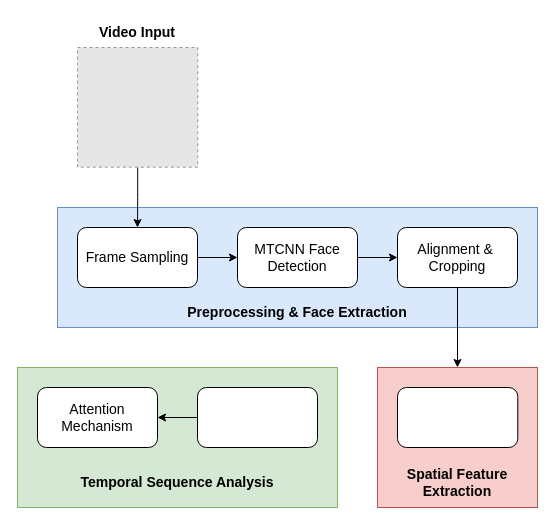
This 555x525 diagram has some shape labels left out. Grey dashed boxes stand in for pictures. The shapes that lost their labels are listed below. From the top down, each one's centre as x and y in pixels, then its label:
At [257,417]: "Bidirectional LSTM Layers".
At [457,417]: "EfficientNet-B4 (CNN backbone)".
